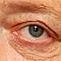eye: (29, 25, 43, 37)
